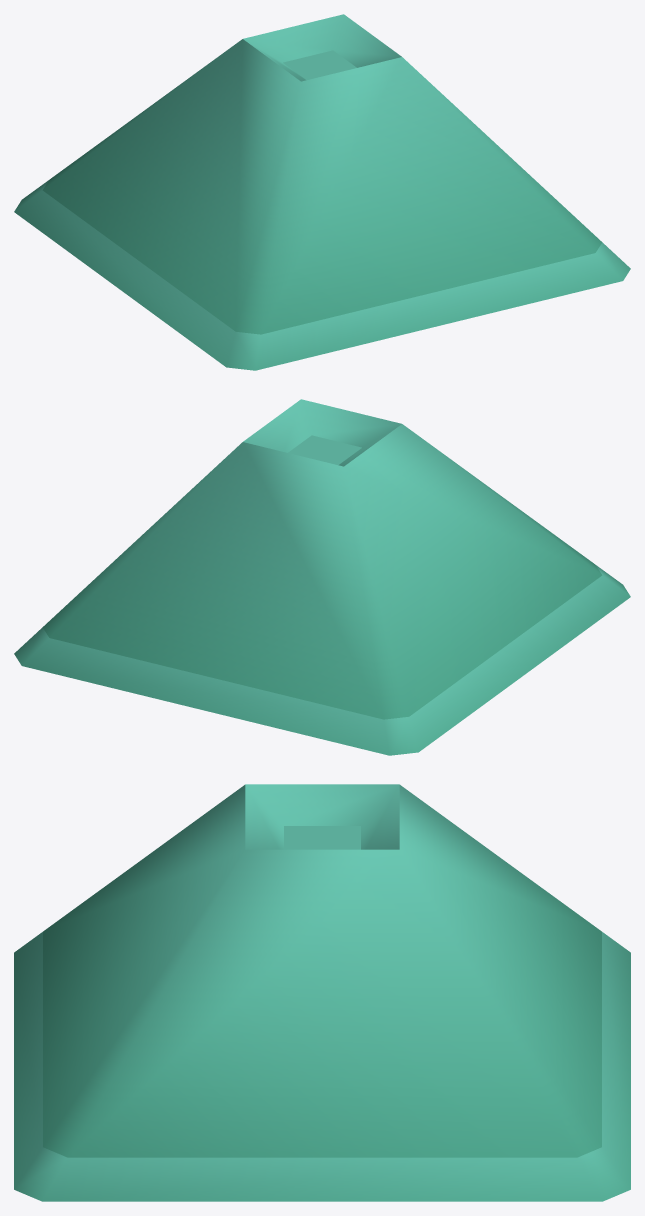
File: roof-point.glb
3 renders of one model, top to bottom at view 1: azimuth 30°, elevation 25°; view 2: azimuth 150°, elevation 25°; view 3: azimuth 270°, elevation 25°, orthographic. The views are drawn at different scales.
Visible parts, largest first — view 1: roof-point; view 2: roof-point; view 3: roof-point.
Part boxes in pixels (x1=…): roof-point: x1=14, y1=14, x2=630, y2=370; roof-point: x1=14, y1=399, x2=630, y2=755; roof-point: x1=14, y1=784, x2=630, y2=1201.
Bounding box in the file's own units: 1.1 × 0.5 × 1.1.
Materials: 1 (1 with a texture image).
